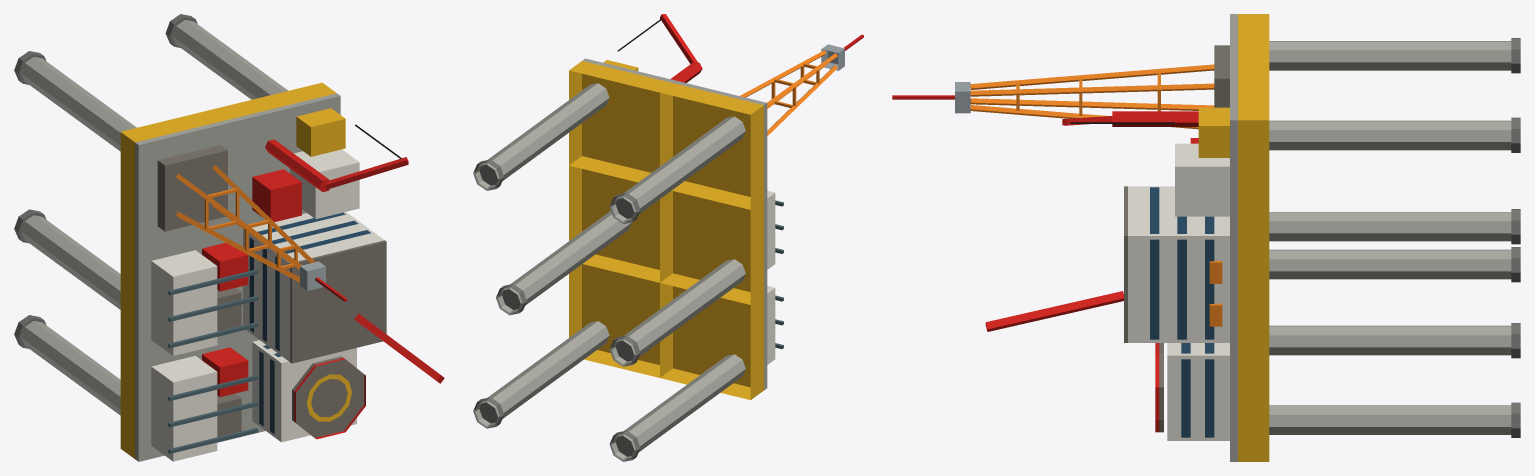
The model's file is complete.glb.
The picture shows the model from 3 angles, left to right: view 1: azimuth 30°, elevation 25°; view 2: azimuth 150°, elevation 25°; view 3: azimuth 270°, elevation 25°; orthographic projection. The views are drawn at different scales.
Parts seen in each view (by area): view 1: t02_g25.003, t12_g28.003, t01_g24.003, t00_g24.003, t11_g27.003, t10_g26.003; view 2: t02_g25.003, t01_g24.003, t12_g28.003, t00_g24.003, t10_g26.003, t11_g27.003; view 3: t11_g27.003, t12_g28.003, t10_g26.003, t02_g25.003, t00_g24.003, t01_g24.003.
Boxes of the visible parts, <box> form: t02_g25.003: <box>14,51,346,301</box>; t12_g28.003: <box>165,14,408,224</box>; t01_g24.003: <box>14,209,258,356</box>; t00_g24.003: <box>14,315,258,461</box>; t11_g27.003: <box>239,210,444,383</box>; t10_g26.003: <box>239,330,365,442</box>; t02_g25.003: <box>609,34,863,223</box>; t01_g24.003: <box>609,181,783,366</box>; t12_g28.003: <box>473,14,702,190</box>; t00_g24.003: <box>609,273,783,461</box>; t10_g26.003: <box>473,254,672,428</box>; t11_g27.003: <box>496,156,672,315</box>; t11_g27.003: <box>985,186,1520,347</box>; t12_g28.003: <box>1062,67,1520,233</box>; t10_g26.003: <box>1155,343,1520,461</box>; t02_g25.003: <box>892,14,1520,129</box>; t00_g24.003: <box>1269,323,1520,358</box>; t01_g24.003: <box>1269,209,1520,244</box>.
Size of the model in its own units: 32 by 48 by 80.
